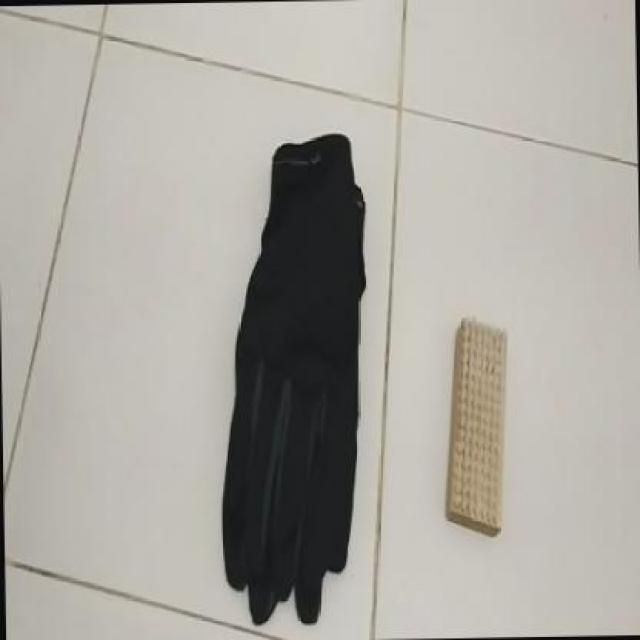Gloves: (217, 128, 381, 640)
